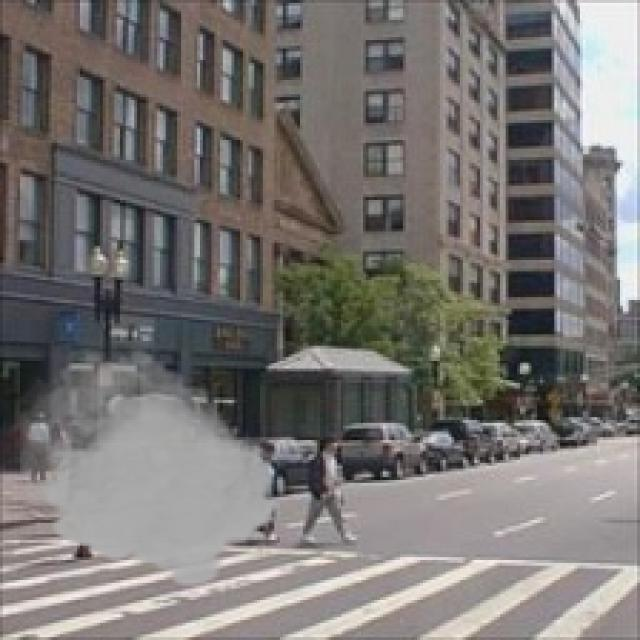smoke: (20, 340, 283, 589)
